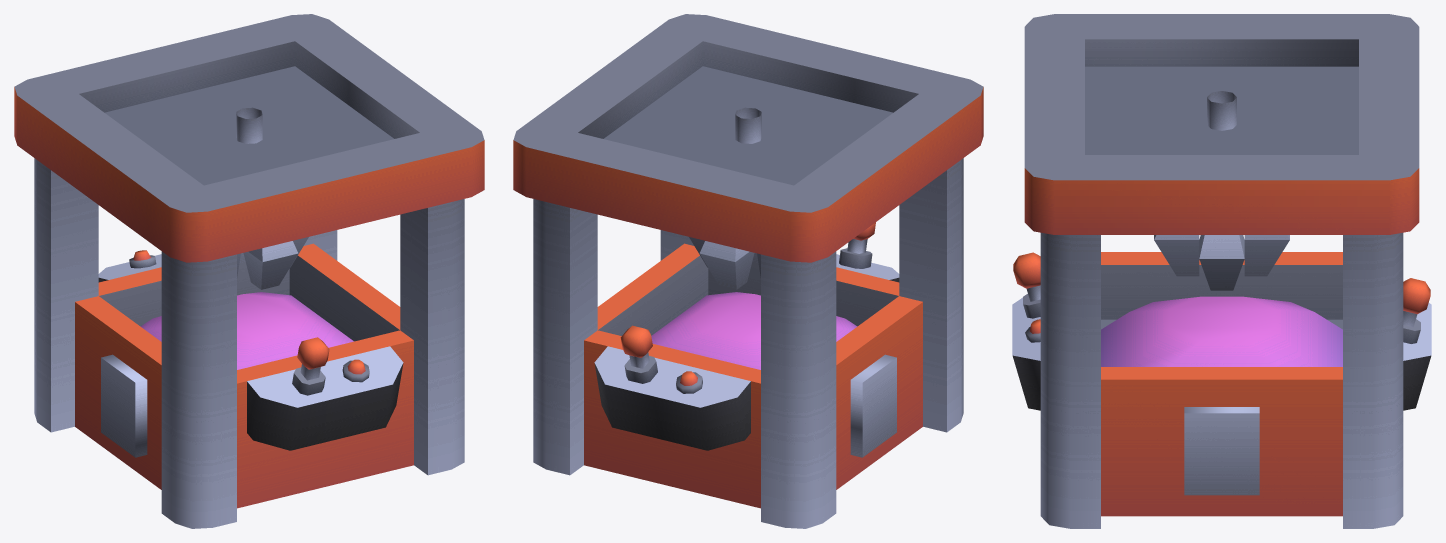
The model's file is claw-machine.001_lev2.glb.
The picture shows the model from 3 angles, left to right: view 1: azimuth 30°, elevation 25°; view 2: azimuth 150°, elevation 25°; view 3: azimuth 270°, elevation 25°; orthographic projection. The views are drawn at different scales.
Visible parts, largest first — view 1: claw-machine.001_lev2; view 2: claw-machine.001_lev2; view 3: claw-machine.001_lev2.
Boxes of the visible parts, left/top/right/bottom form: claw-machine.001_lev2: left=14, top=14, right=484, bottom=528; claw-machine.001_lev2: left=513, top=14, right=983, bottom=528; claw-machine.001_lev2: left=1012, top=14, right=1431, bottom=528.
Size of the model in its own units: 2.61 by 2.6 by 2.78.
1 material, 1 textured.
